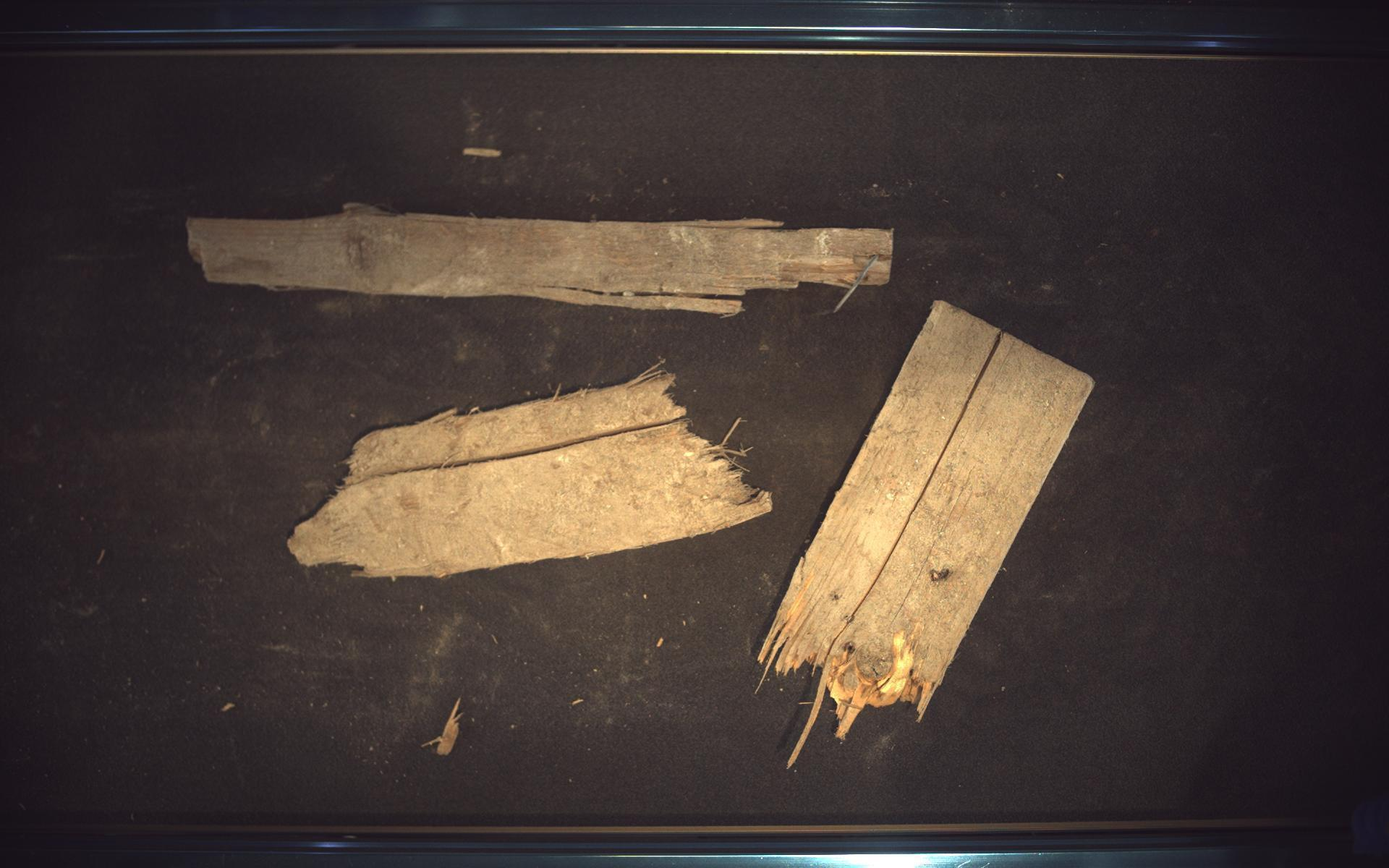wood: (760, 300, 1096, 770), (288, 369, 773, 579), (186, 203, 893, 315)
